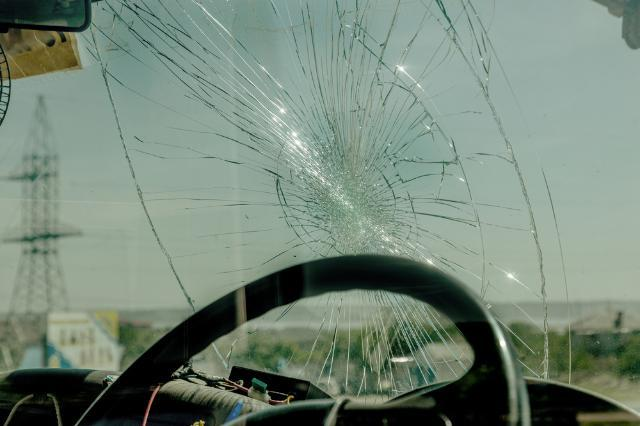glass shatter: (0, 0, 640, 415)
